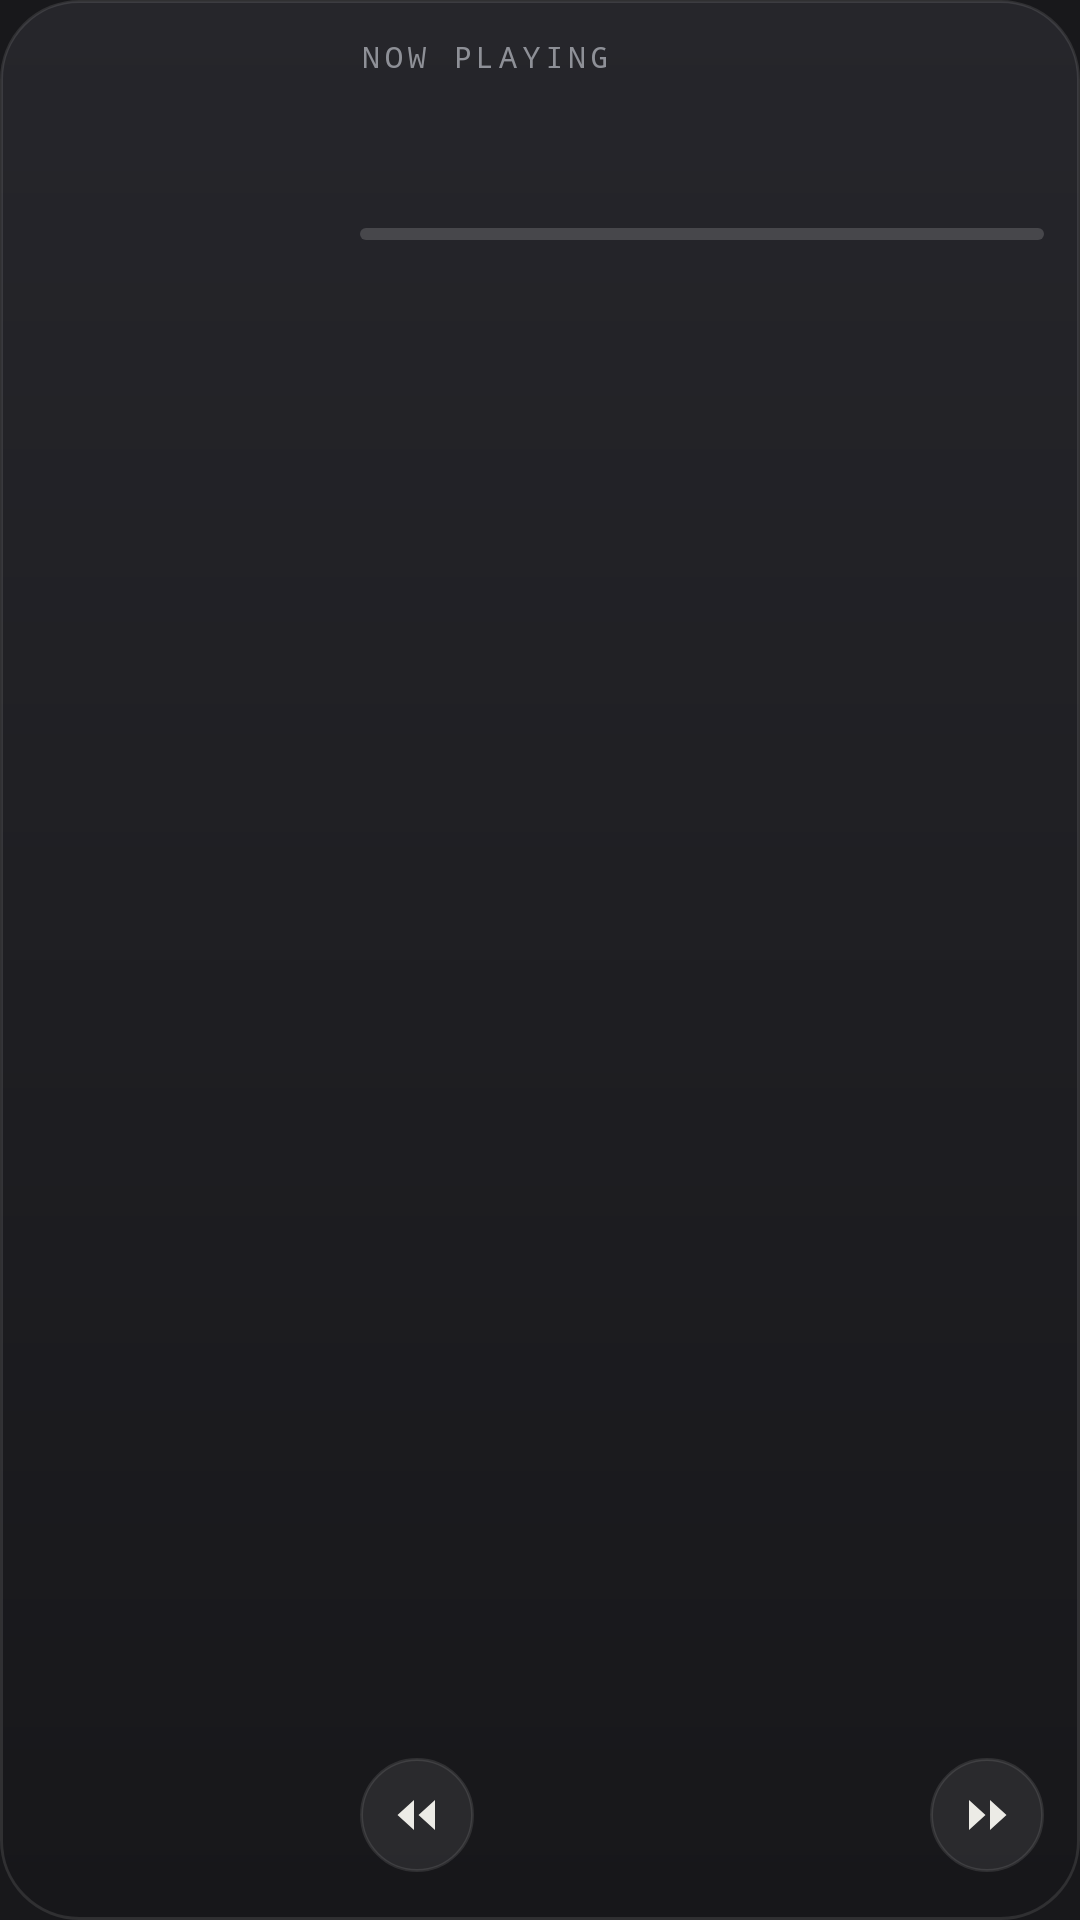

Named icons in this screenshot (1080 x 1920) and their bounding boxes, region(x1, y1, x2, y2):
Next: region(930, 1758, 1044, 1872)
Previous: region(360, 1758, 474, 1872)
